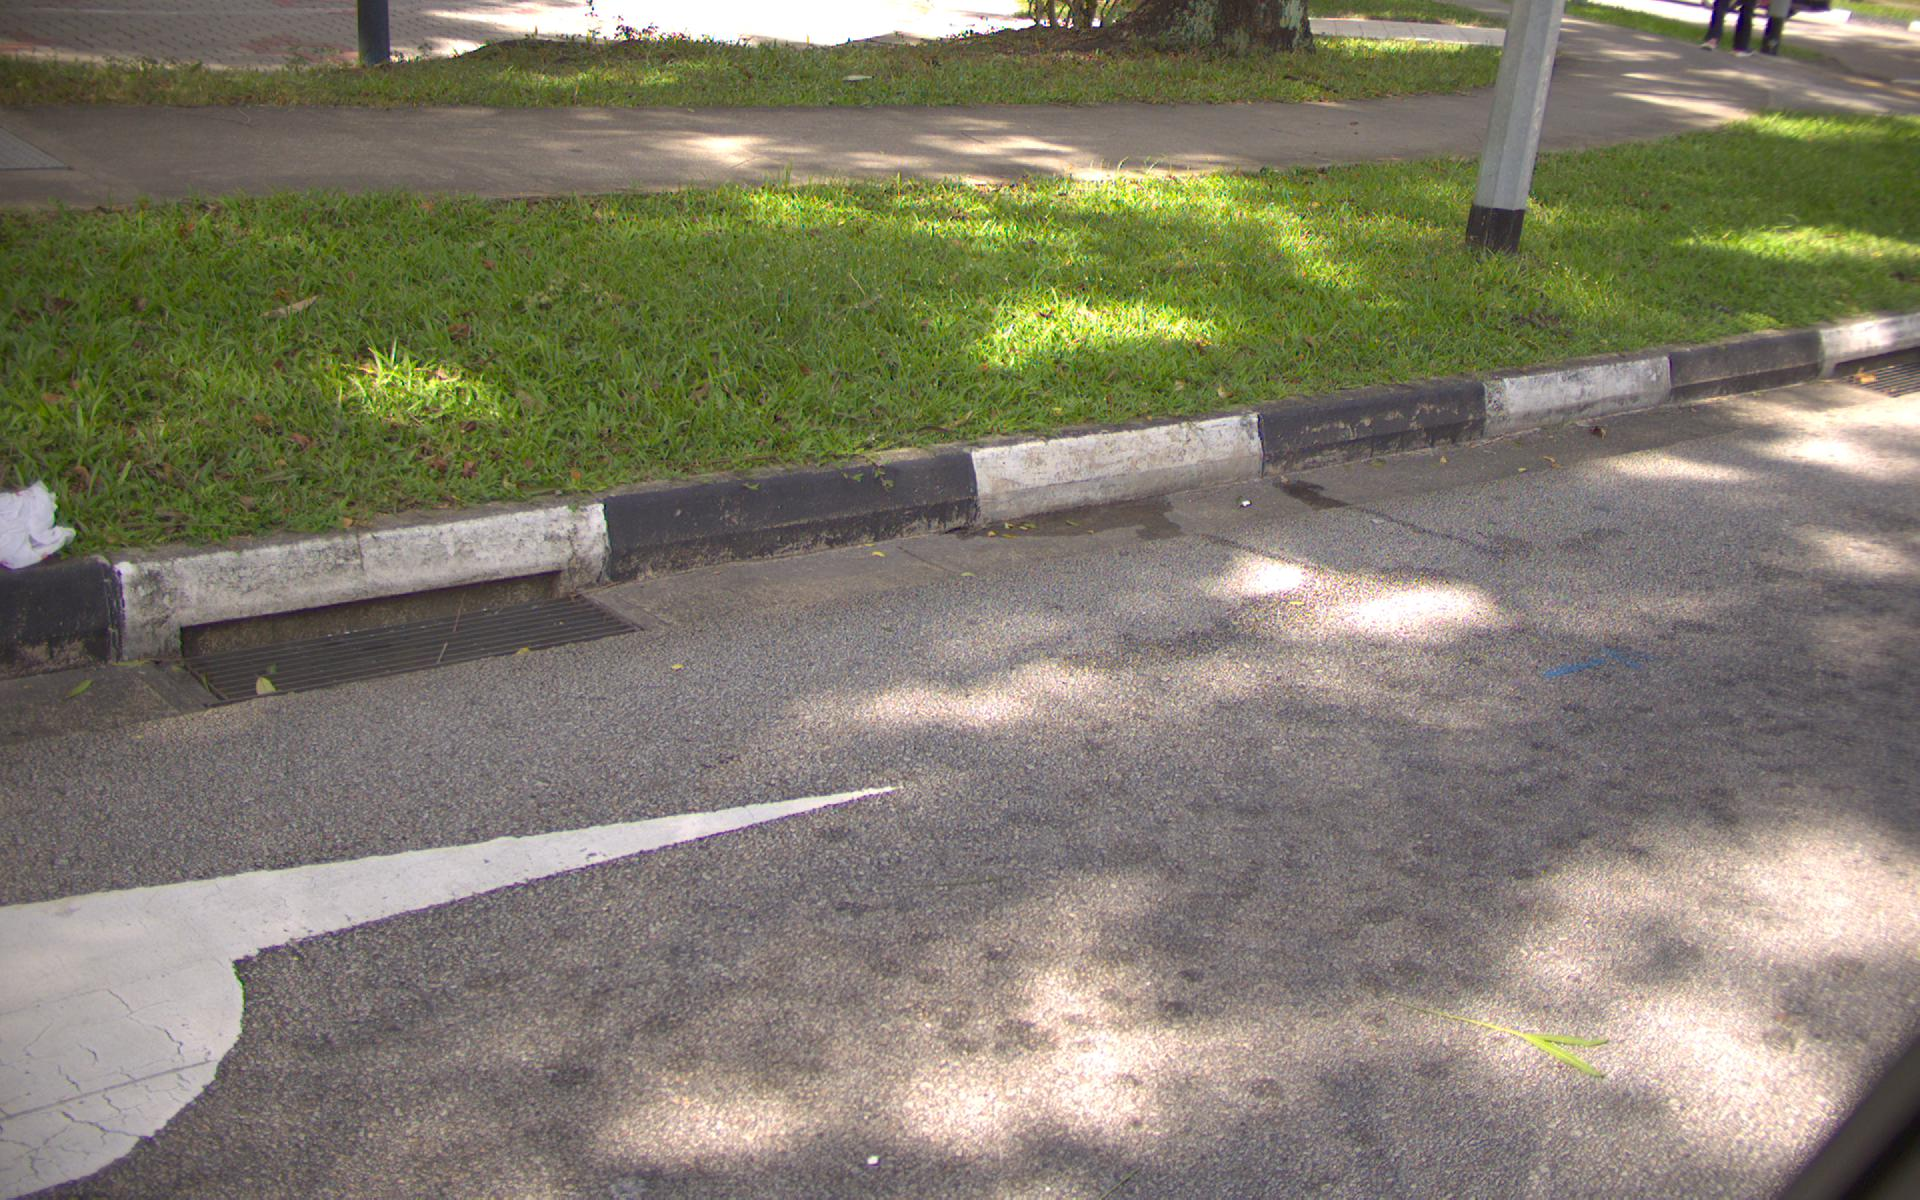curb_dic_low: (145, 552, 659, 722)
pathway_low: (8, 111, 778, 173)
road_turf_low: (8, 182, 1104, 442)
